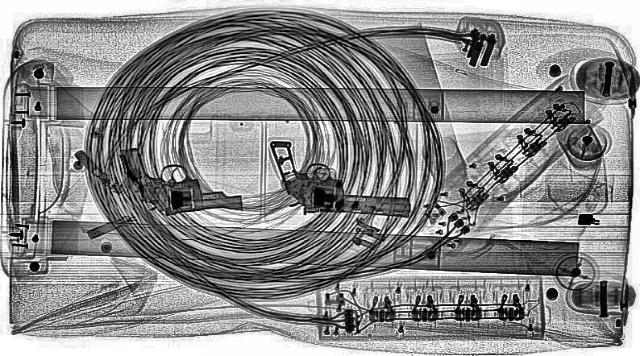Gun: (247, 140, 429, 218), (110, 138, 246, 218)
